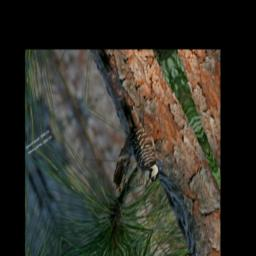Woodpecker: (108, 82, 173, 190)
